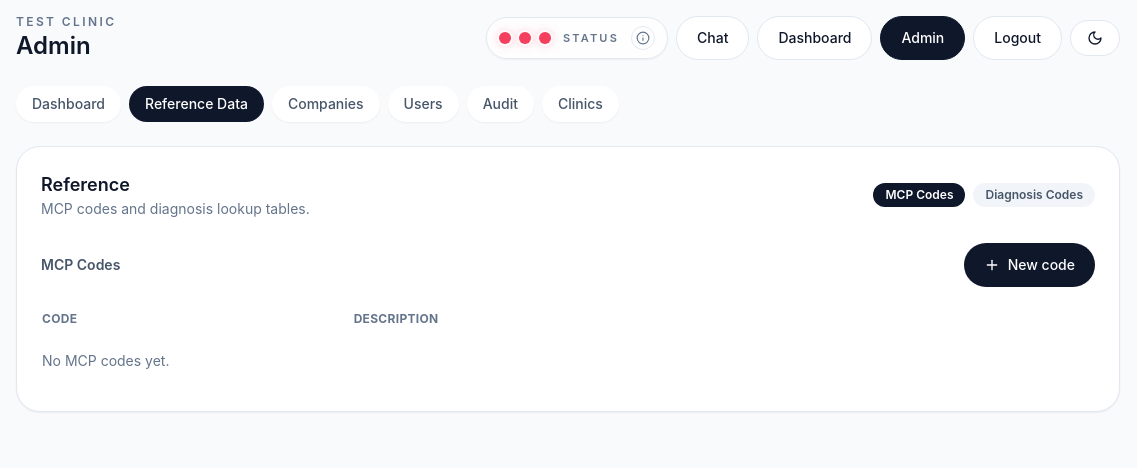
Scenario: admin ui › users tab shows current account marker and allows changing another user's role
Click the button "Users" at (423, 104), box [388,86,459,122]
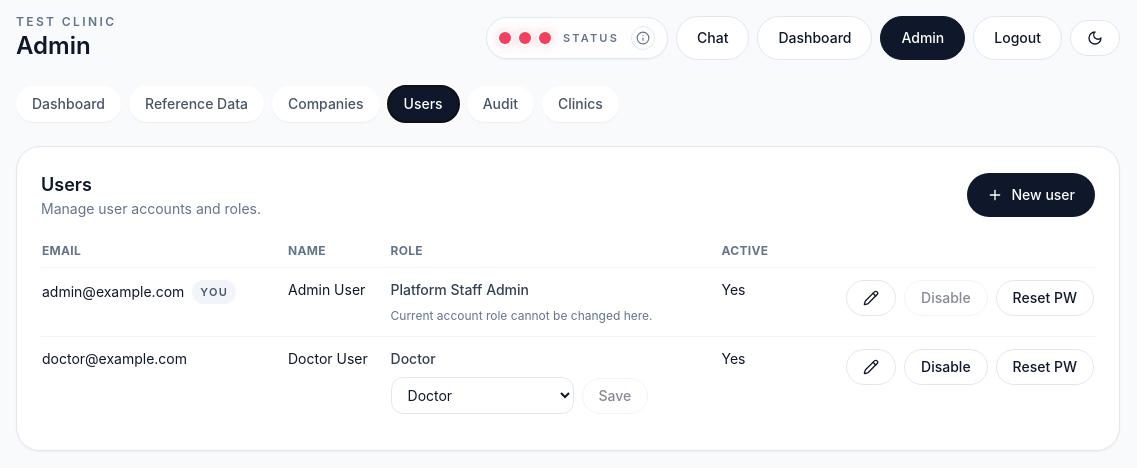
Check: the text "You" is shown, box [192,280,236,304]
Check: the text "Platform Staff Admin" is shown, box [390,281,529,298]
Check: the text "Doctor" is shown, box [390,350,436,367]
Select "Clinic Admin" in the dropdown named "Role for doctor@example.com" at (482, 396), box [390,377,574,414]
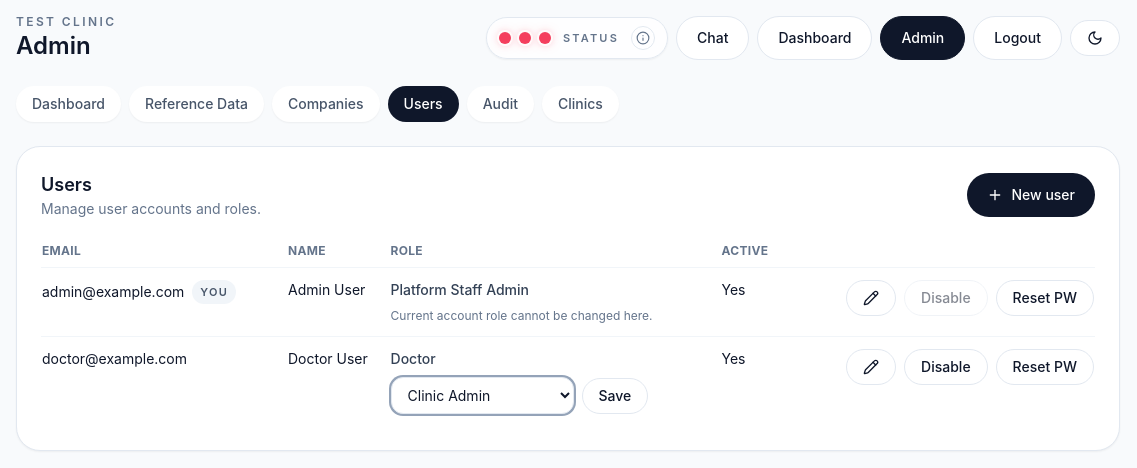
Click the button with aria-label "Save role for doctor@example.com" at (615, 396), box [582,378,648,414]
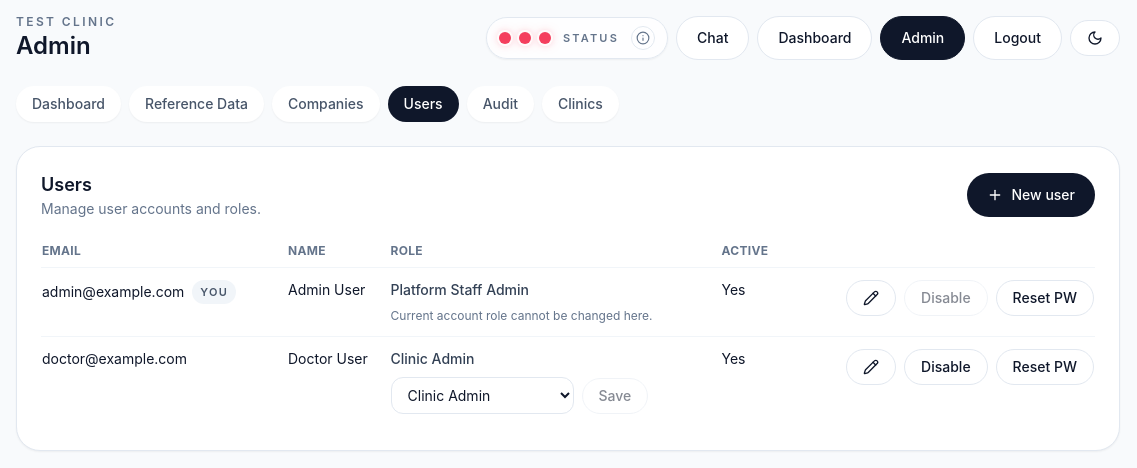
Check: the text "Clinic Admin" is shown, box [390,350,474,367]
